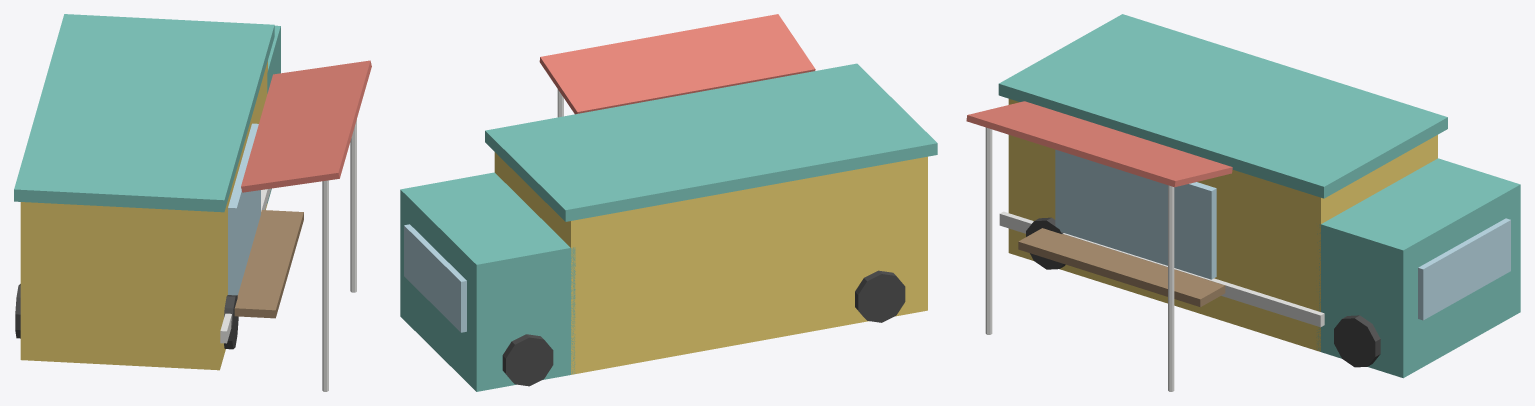
File: food_truck.glb
The picture shows the model from 3 angles, left to right: view 1: azimuth 30°, elevation 25°; view 2: azimuth 150°, elevation 25°; view 3: azimuth 270°, elevation 25°; orthographic projection. The views are drawn at different scales.
Visible parts, largest first — view 1: FoodTruck.001; view 2: FoodTruck.001; view 3: FoodTruck.001.
Part boxes in pixels (<box>): FoodTruck.001: <box>14,14,371,391</box>; FoodTruck.001: <box>400,14,937,391</box>; FoodTruck.001: <box>966,14,1520,391</box>.
Bounding box in the file's own units: 3.03 × 1.59 × 3.63.
